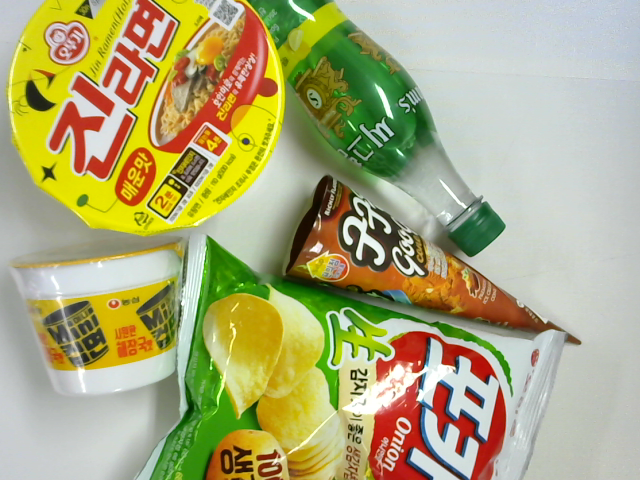GooGoo_Cone_CVS: (279, 176, 585, 348)
Hejangmini: (8, 235, 189, 403)
Jinlamyeon_Hot_Taste_Large_Cup: (9, 1, 287, 233)
Pocachip_Onion: (133, 231, 572, 480)
Seagram_Lemon_Carbonated_Water: (245, 1, 507, 256)
